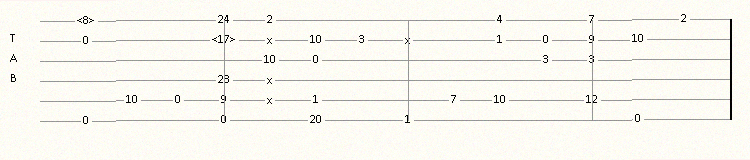0: (83, 34, 93, 46), (83, 114, 93, 126), (175, 94, 185, 106), (221, 114, 231, 126), (313, 54, 323, 66), (543, 34, 553, 46), (635, 114, 645, 126)
1: (313, 94, 323, 106), (405, 114, 415, 126), (497, 34, 507, 46)
10: (126, 94, 142, 106), (264, 54, 280, 66), (310, 34, 326, 46), (494, 94, 510, 106), (632, 34, 648, 46)
12: (586, 94, 602, 106)
2: (267, 14, 277, 26), (681, 14, 691, 26)
20: (310, 114, 326, 126)
23: (218, 74, 234, 86)
24: (218, 14, 234, 26)
3: (359, 34, 369, 46), (543, 54, 553, 66), (589, 54, 599, 66)
4: (497, 14, 507, 26)
7: (451, 94, 461, 106), (589, 14, 599, 26)
9: (221, 94, 231, 106), (589, 34, 599, 46)
harmonic: (212, 34, 240, 46), (77, 14, 99, 26)
x: (267, 35, 276, 45), (267, 95, 276, 105), (267, 75, 276, 85), (405, 35, 414, 45)
